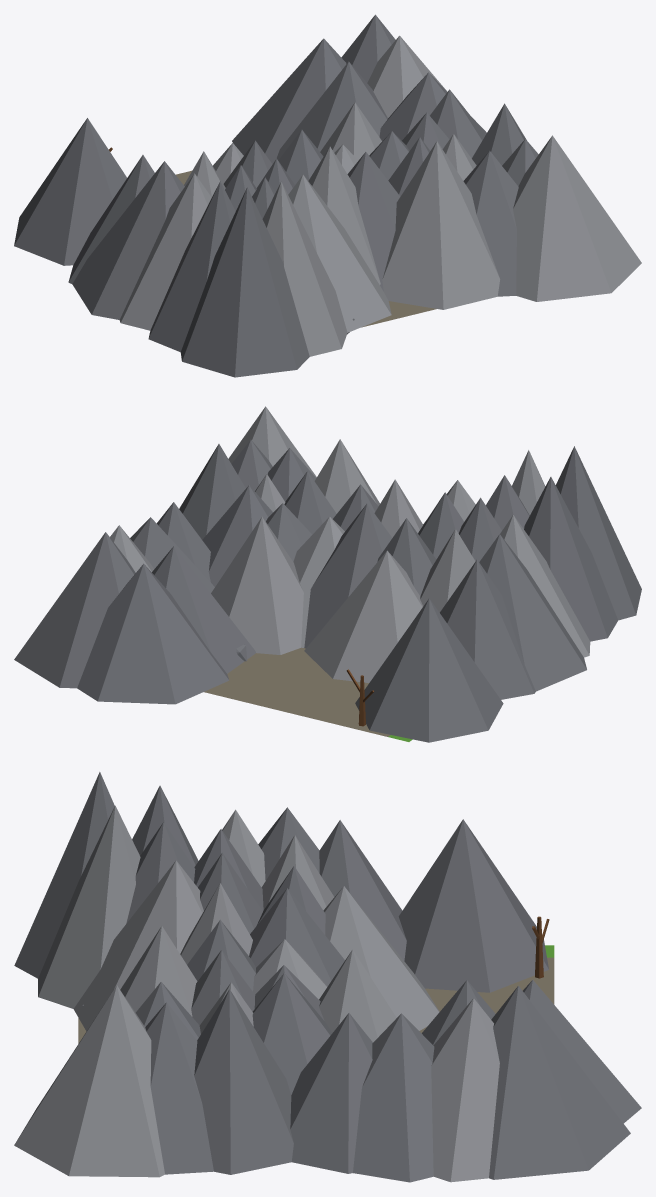
Rendered from chunk_8_18.glb.
3 renders of one model, top to bottom at view 1: azimuth 30°, elevation 25°; view 2: azimuth 150°, elevation 25°; view 3: azimuth 270°, elevation 25°, orthographic. The views are drawn at different scales.
Visible parts, largest first — view 1: chunk_8_18; view 2: chunk_8_18; view 3: chunk_8_18.
Boxes of the visible parts, x1=… form: chunk_8_18: x1=14, y1=14, x2=641, y2=377; chunk_8_18: x1=14, y1=406, x2=641, y2=742; chunk_8_18: x1=14, y1=772, x2=641, y2=1182.
Bounding box in the file's own units: 21.7 × 7.46 × 21.12.
